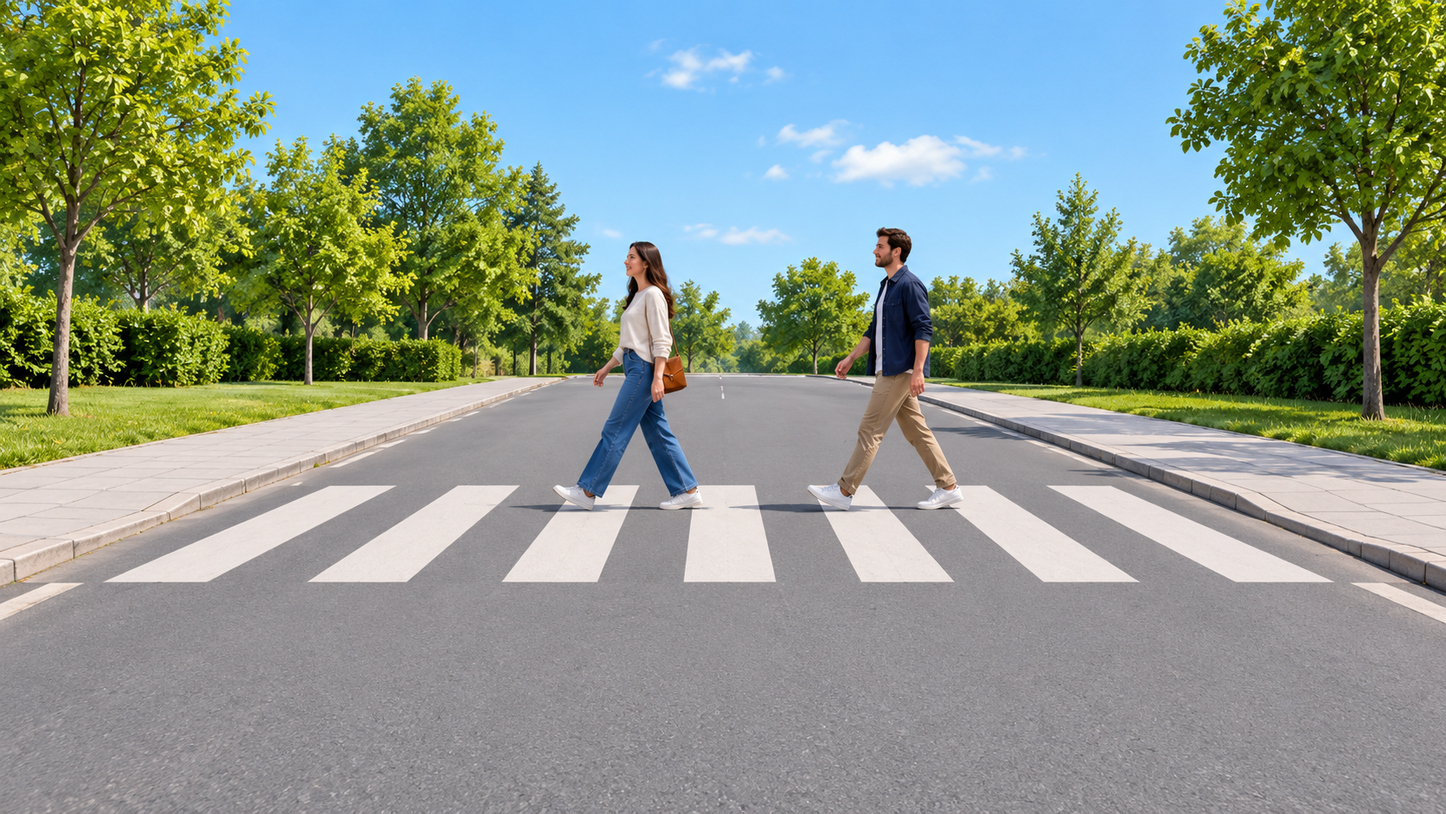person: (809, 233, 967, 537), (568, 242, 707, 536)
zebra_crossing: (88, 497, 1346, 612)
